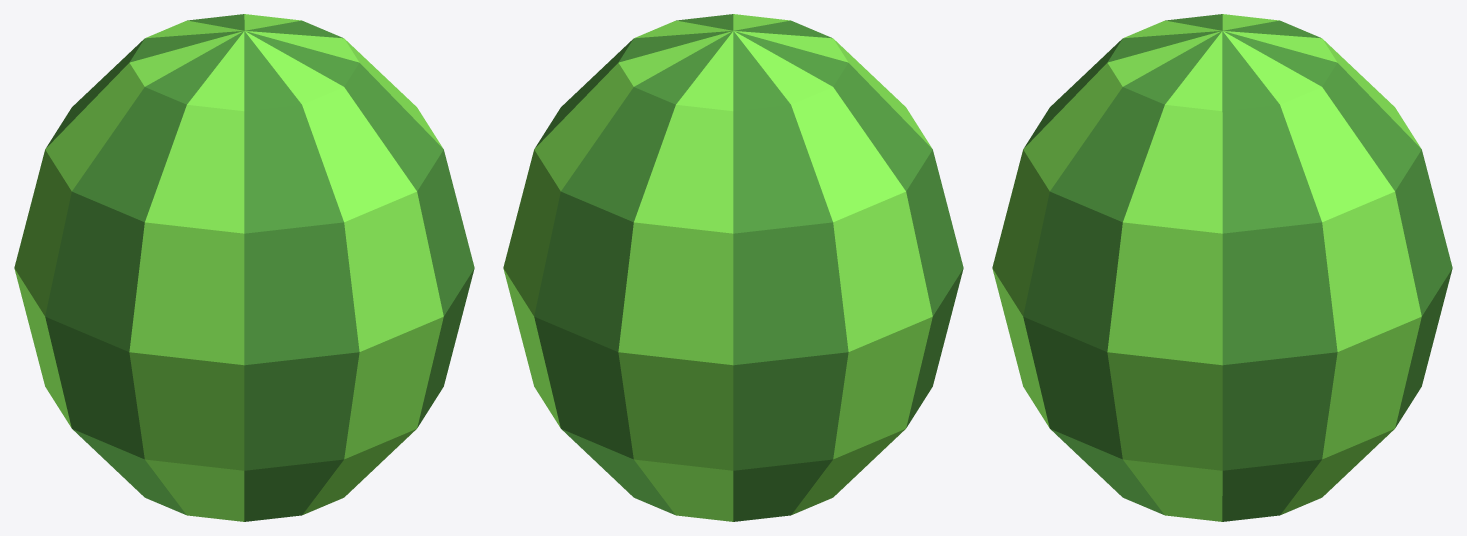
Rendered from lubenicaSlicedKOOL.fbx.
3 renders of one model, left to right at view 1: azimuth 30°, elevation 25°; view 2: azimuth 150°, elevation 25°; view 3: azimuth 270°, elevation 25°, orthographic.
Parts seen in each view (by area): view 1: Sphere.006, Sphere.009; view 2: Sphere.006, Sphere.009; view 3: Sphere.009, Sphere.006.
Part boxes in pixels (left/top/right/bottom): Sphere.006: left=14, top=20, right=359, bottom=521; Sphere.009: left=187, top=14, right=474, bottom=514; Sphere.006: left=618, top=20, right=963, bottom=521; Sphere.009: left=503, top=14, right=790, bottom=514; Sphere.009: left=992, top=31, right=1452, bottom=521; Sphere.006: left=1024, top=14, right=1420, bottom=147.
Bounding box in the file's own units: 200 × 227 × 200.
